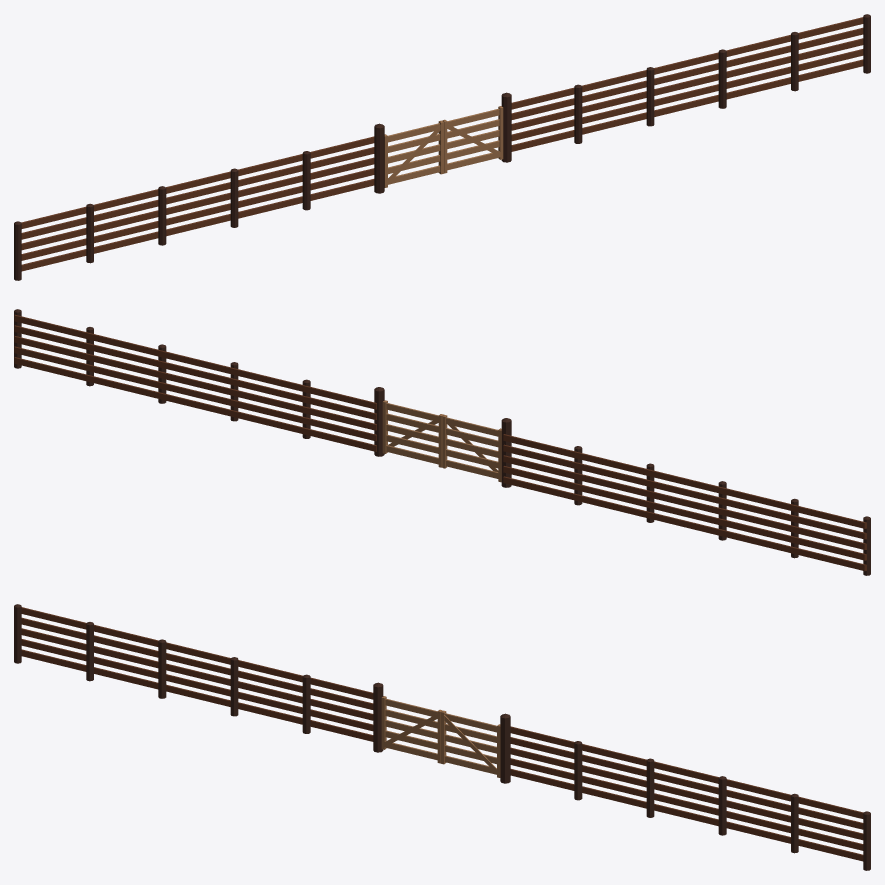
The model's file is apinadero-pen-ed2455.glb.
3 renders of one model, top to bottom at view 1: azimuth 30°, elevation 25°; view 2: azimuth 150°, elevation 25°; view 3: azimuth 330°, elevation 25°, orthographic.
Visible parts, largest first — view 1: fence, gate-l-leaf, gate-r-leaf; view 2: fence, gate-r-leaf, gate-l-leaf; view 3: fence, gate-r-leaf, gate-l-leaf.
Part boxes in pixels (x1,y1,x2,y2): fence: [14, 14, 870, 280]; gate-l-leaf: [384, 120, 443, 187]; gate-r-leaf: [442, 106, 503, 173]; fence: [14, 309, 870, 575]; gate-r-leaf: [382, 400, 443, 467]; gate-l-leaf: [442, 414, 501, 482]; fence: [14, 604, 870, 870]; gate-r-leaf: [441, 710, 500, 777]; gate-l-leaf: [381, 696, 442, 763].
Size of the model in its own units: 28.77 by 2.18 by 0.3242.
